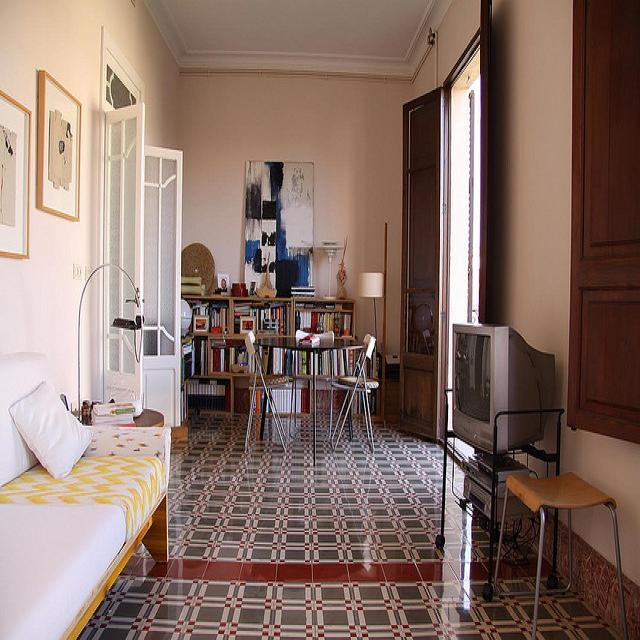chair: (330, 333, 379, 453), (244, 332, 292, 452), (291, 352, 313, 428), (314, 331, 334, 340)
dining table: (256, 328, 363, 468)
